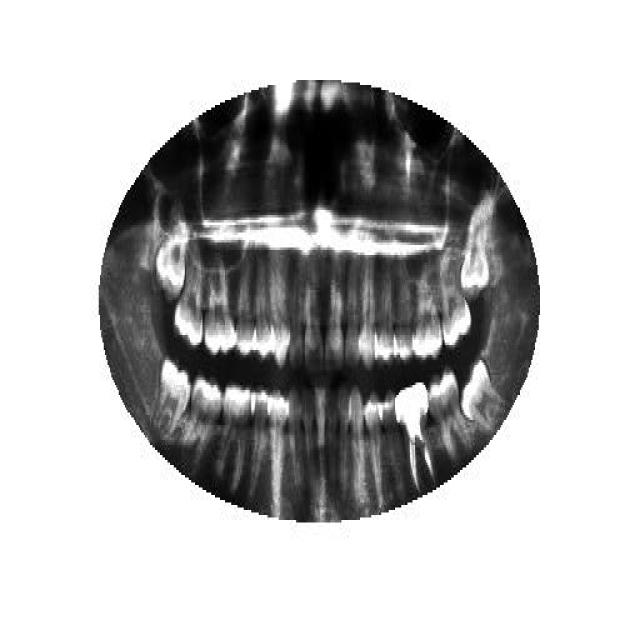Impacted Tooth: (458, 355, 508, 433), (152, 212, 190, 302), (460, 212, 491, 302)
Implant: (394, 380, 436, 490)
